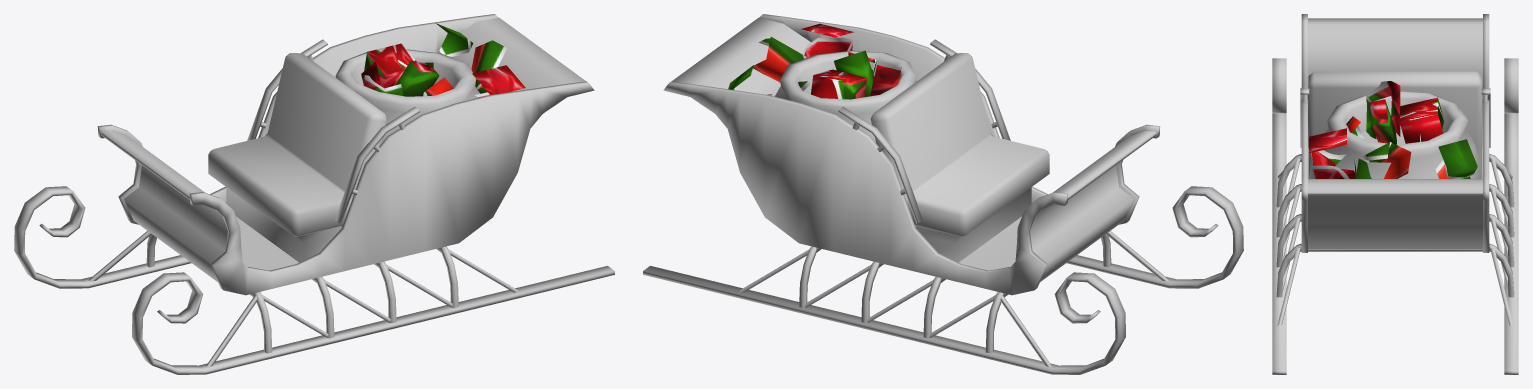
The model's file is Santa_Claus_Sleigh.fbx.
3 renders of one model, left to right at view 1: azimuth 30°, elevation 25°; view 2: azimuth 150°, elevation 25°; view 3: azimuth 270°, elevation 25°, orthographic.
Visible parts, largest first — view 1: Sleigh, Gift; view 2: Sleigh, Gift; view 3: Sleigh, Gift.
Part boxes in pixels (x1,y1,x2,y2): Sleigh: [14, 14, 614, 374]; Gift: [361, 23, 525, 97]; Sleigh: [643, 14, 1243, 374]; Gift: [728, 23, 902, 99]; Sleigh: [1272, 14, 1518, 374]; Gift: [1309, 81, 1477, 178].
Bounding box in the file's own units: 8.73 × 3.69 × 3.97.
